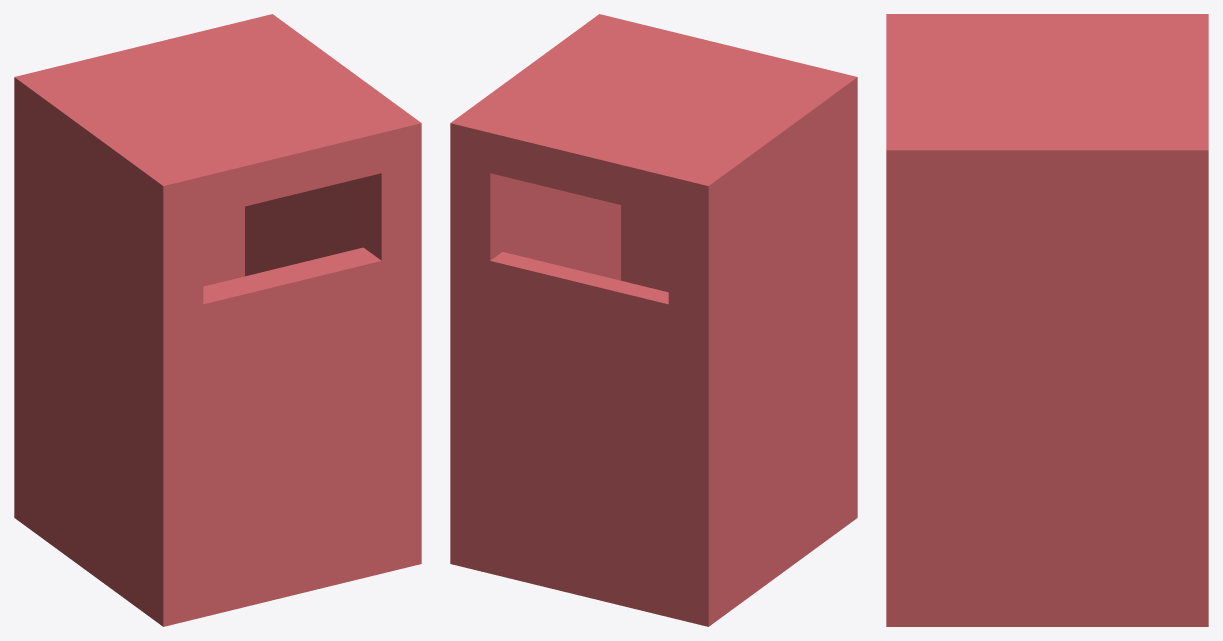
File: low-poly-trash-can.fbx
3 views of the same model, side by side, from view 1: azimuth 30°, elevation 25°; view 2: azimuth 150°, elevation 25°; view 3: azimuth 270°, elevation 25° (orthographic). The views are drawn at different scales.
Parts seen in each view (by area): view 1: Trash-can; view 2: Trash-can; view 3: Trash-can.
Part boxes in pixels (box(x1,y1,x2,y2)): Trash-can: box(14, 14, 421, 626); Trash-can: box(450, 14, 857, 626); Trash-can: box(886, 14, 1208, 626).
Bounding box in the file's own units: 650 × 1060 × 650.
